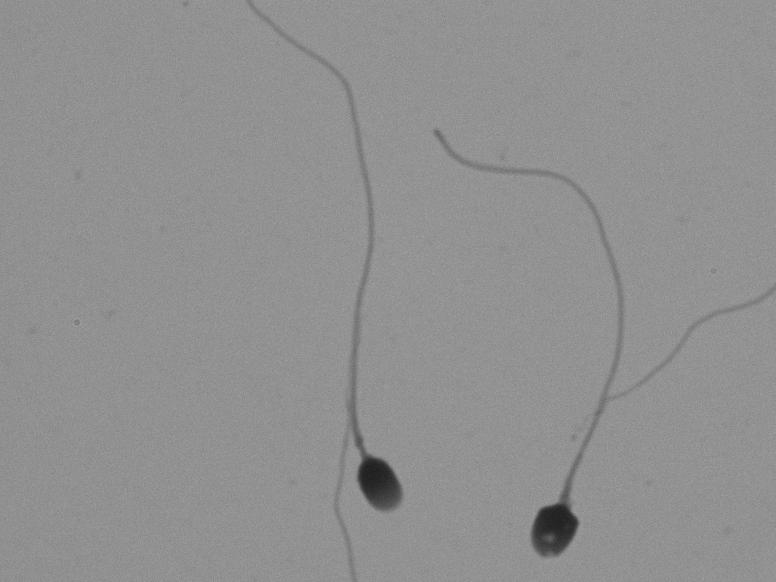Abnormal: (463, 138, 672, 568)
Normal: (266, 19, 425, 534)
